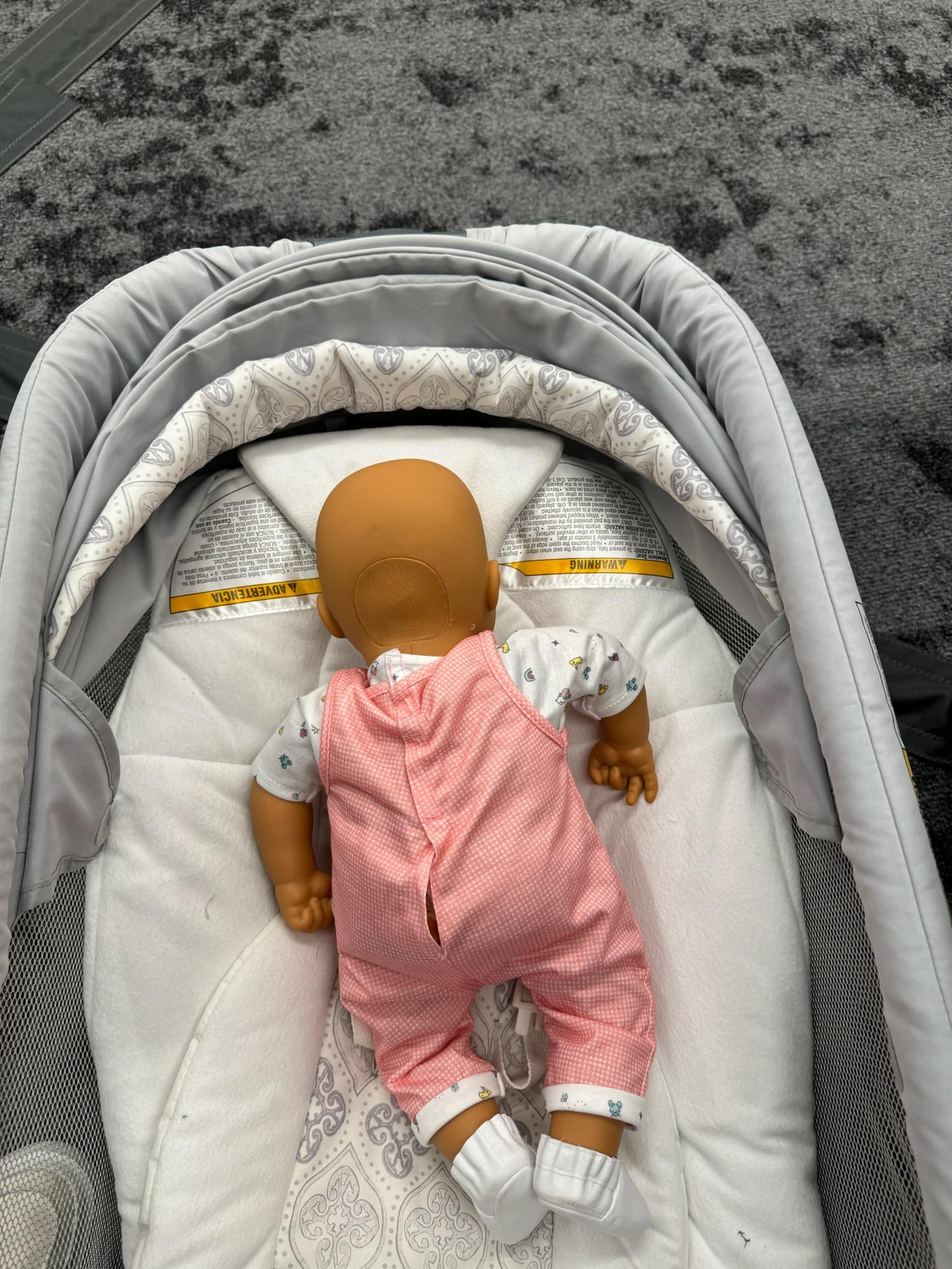baby: (235, 452, 703, 1231)
